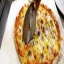pizza: (14, 2, 62, 64)
